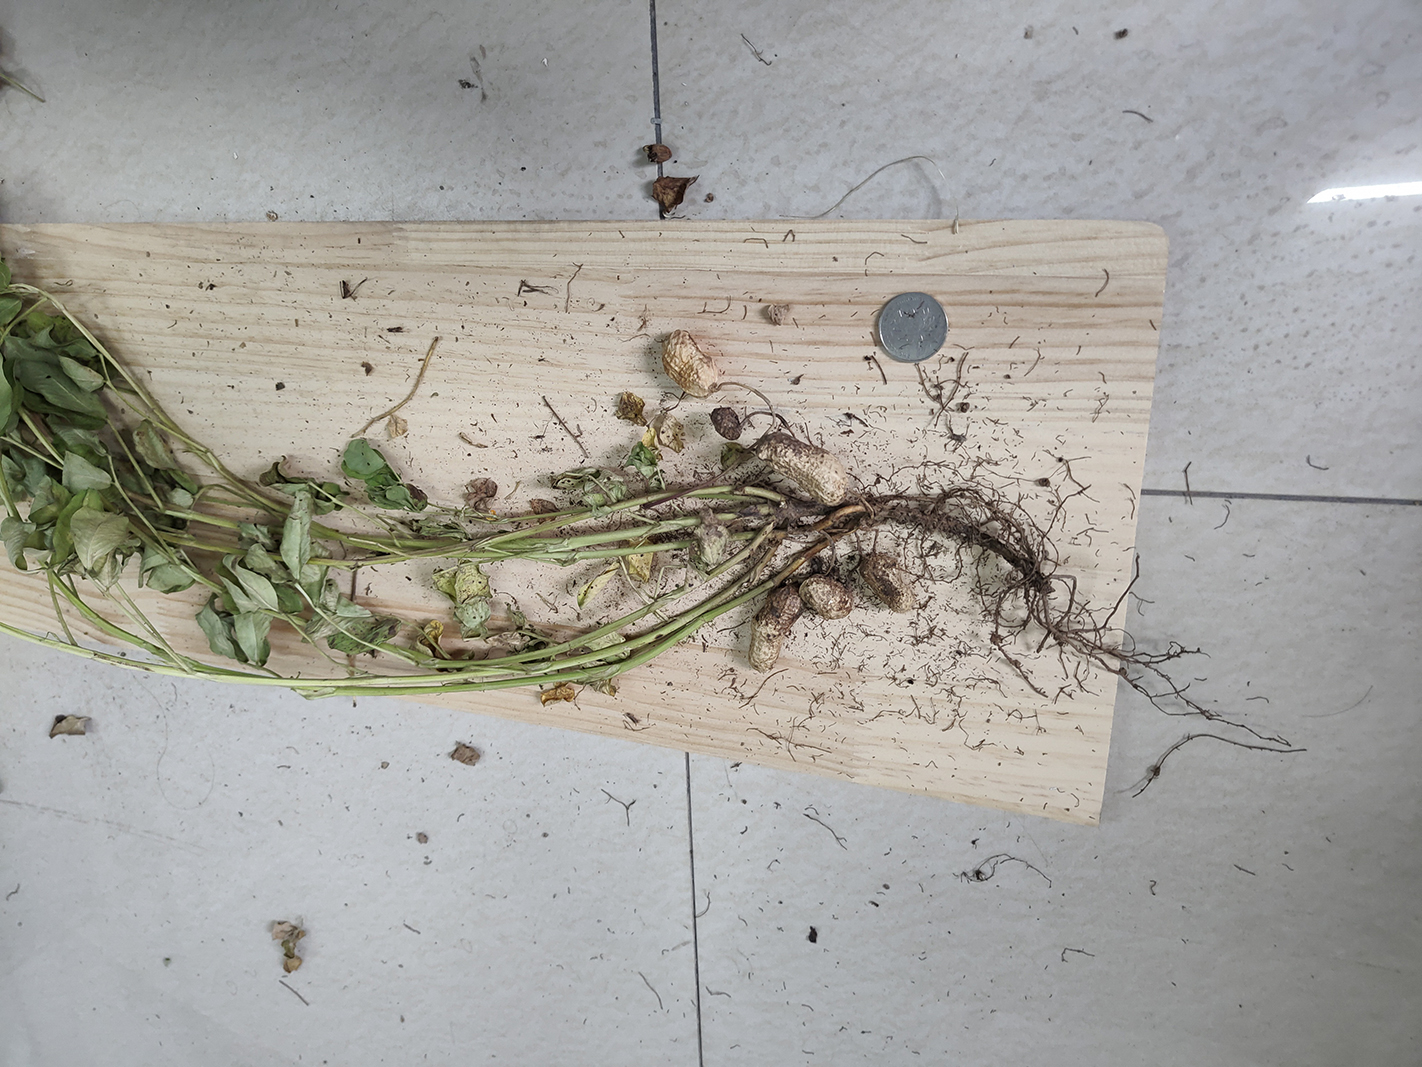h: (758, 432, 845, 507), (749, 583, 803, 672), (661, 330, 721, 397), (801, 574, 853, 619)
l: (862, 553, 916, 613), (710, 407, 742, 440)
